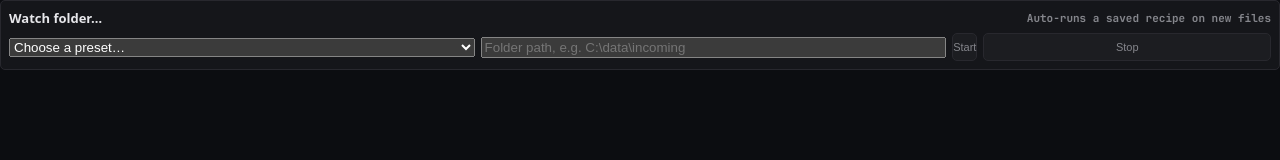
Test case: WatchFolderSection — Start button disabled reason › moves the tip back onto the button once Start is actually enabled
Select "Recipe p1 · 1 step" in the dropdown named "Recipe to watch with": coordinates (242, 47) [9,38,475,56]
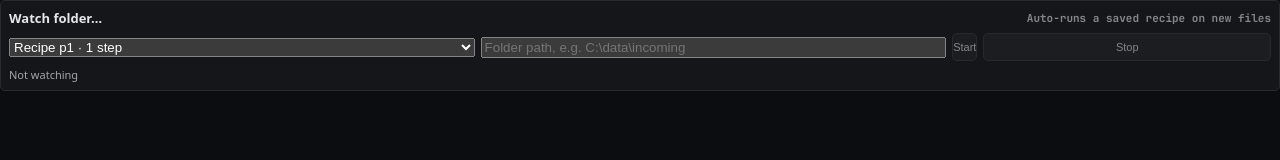
In the field named "Folder to watch": coordinates (713, 47) [481,36,946,58], type "C:\\data\\incoming"
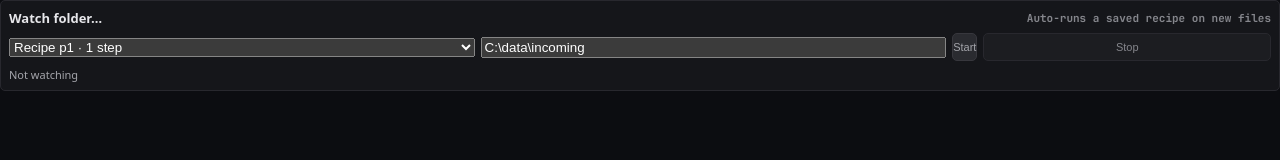
Check: the button "Start" is enabled, box [952,33,977,61]
